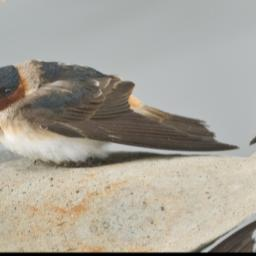Swallow: (0, 11, 242, 216)
